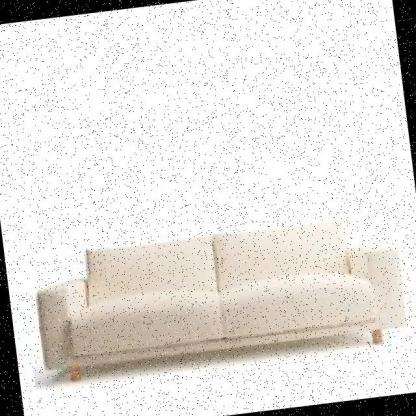Sofa: (13, 192, 416, 405)
